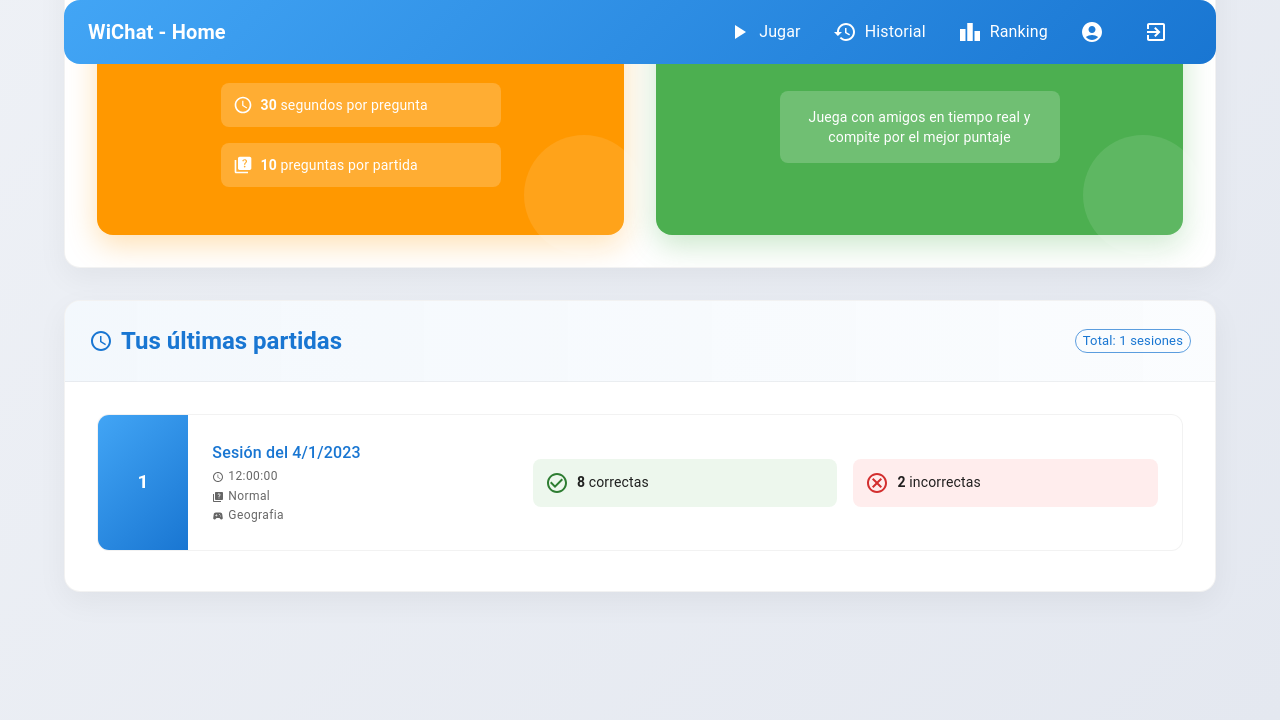
HomePage Component › renders session details dialog with no questions
(page scrolled)
Expected: the heading "Tus últimas partidas" is shown, [89,325,342,357]
What coordinates should you click on to do the following:
click the text "correctas"
I would click on:
 (640, 482)
Its box is [97,414,1183,551].
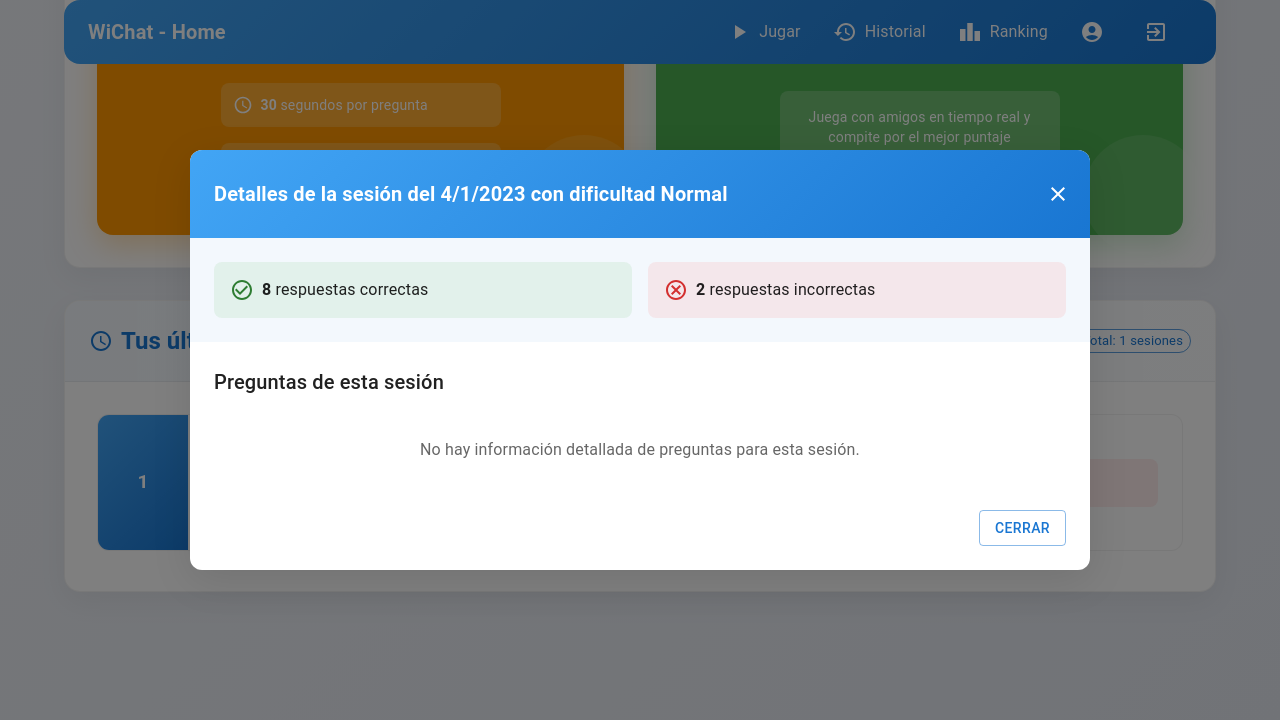
Expected: the text "No hay información detallada de preguntas para esta sesión." is shown, [420,440,860,459]
